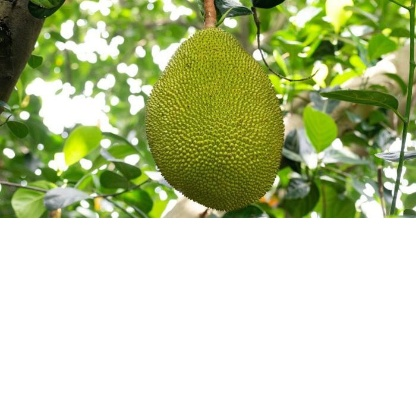mit: (148, 18, 296, 215)
